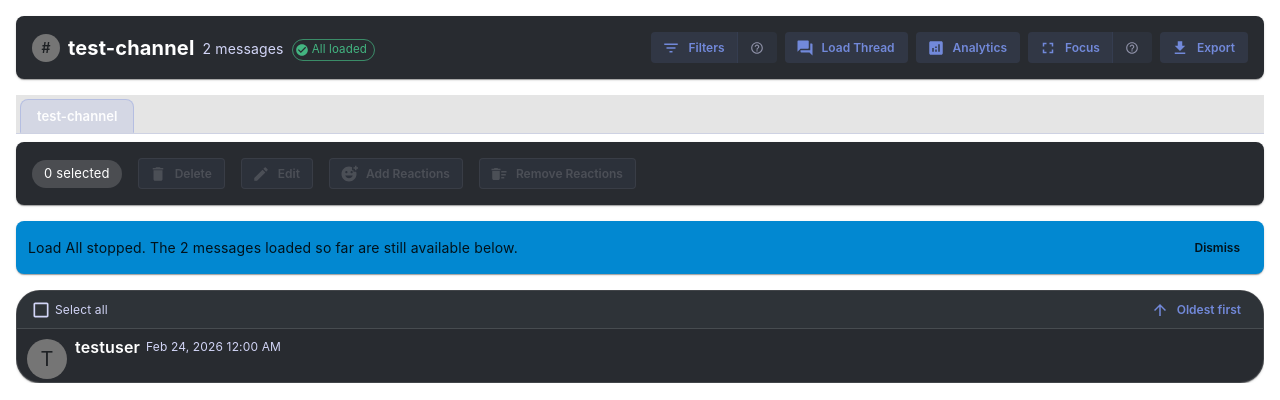
Test: ServerView › Cancelled Load All callout (#193) › Dismiss button removes the callout
The width and height of the screenshot is (1280, 400).
Expected: the element with test id "load-all-cancelled-callout" is shown, [16, 221, 1264, 274]
Click the button "Dismiss": (1217, 248) [1182, 233, 1252, 262]
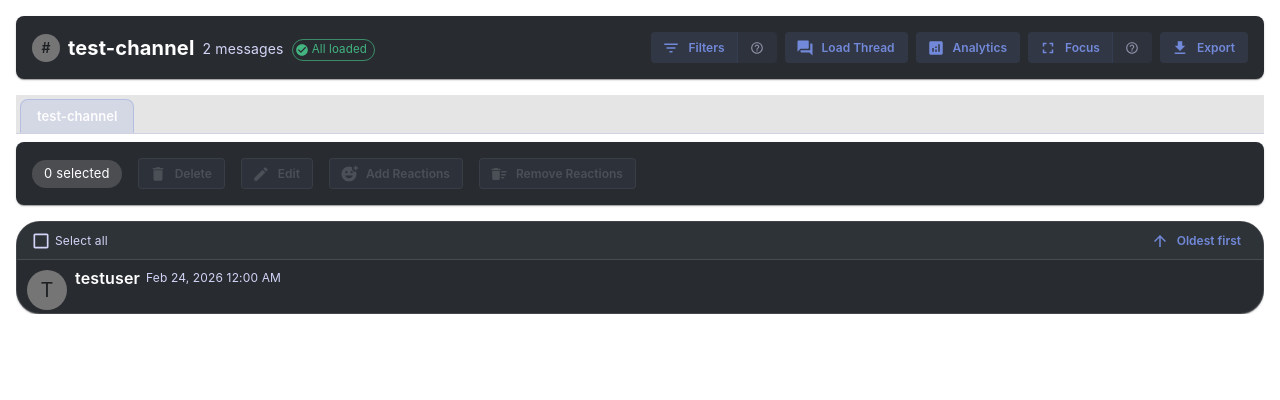
Expected: the element with test id "load-all-cancelled-callout" is gone
